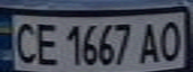1: (60, 20, 84, 66)
6: (78, 21, 100, 66), (97, 20, 118, 66)
7: (112, 20, 136, 66)
A: (136, 19, 163, 64)
C: (9, 18, 39, 65)
E: (30, 19, 60, 66)
O: (154, 17, 184, 63)
